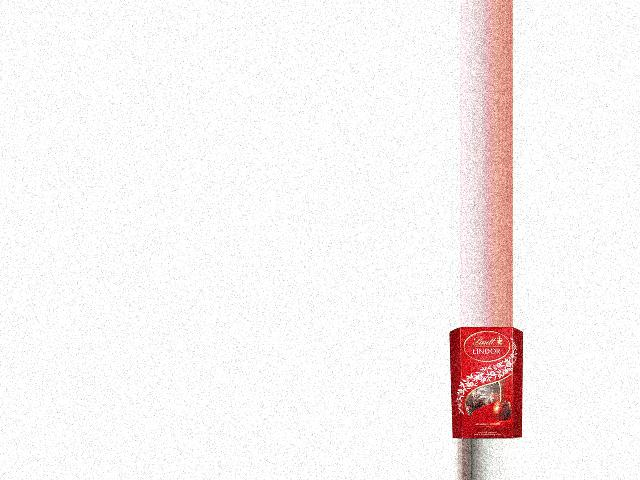chocolate: (447, 327, 528, 439)
